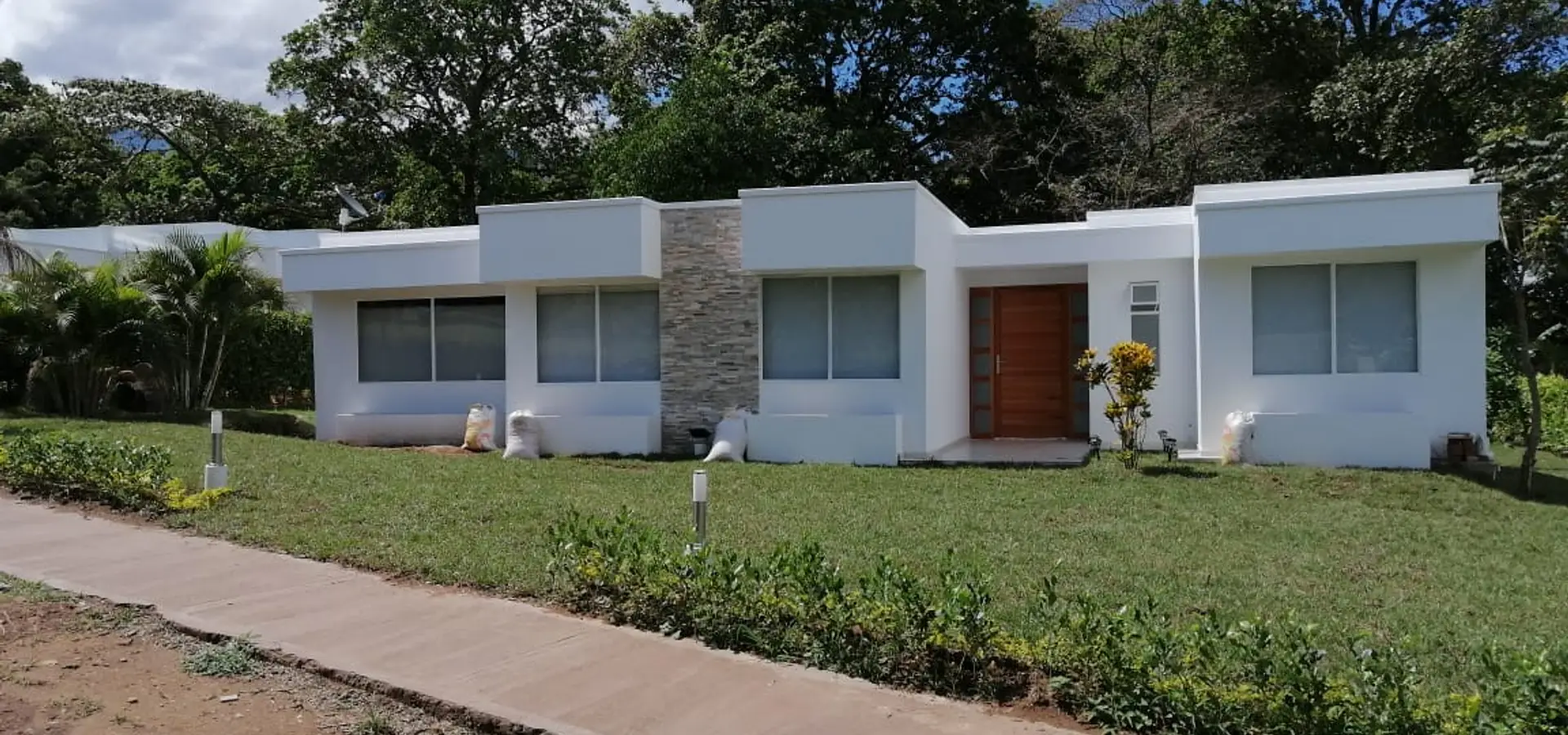House: (274, 187, 1512, 463)
